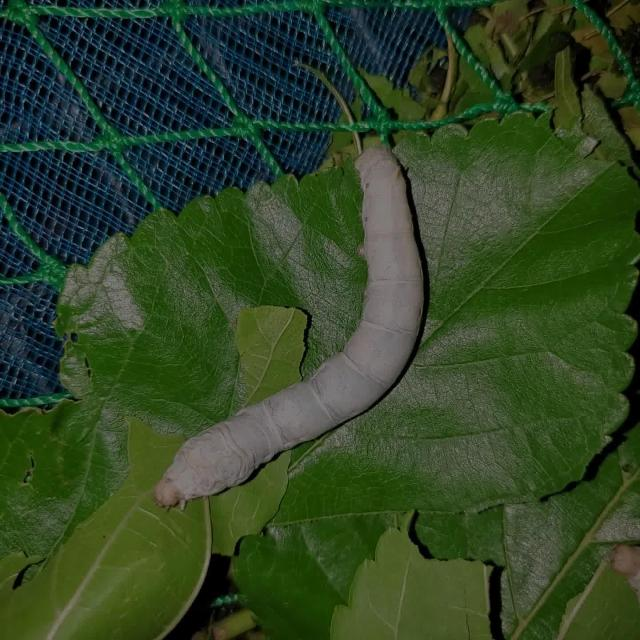Healthy: (146, 139, 444, 530)
